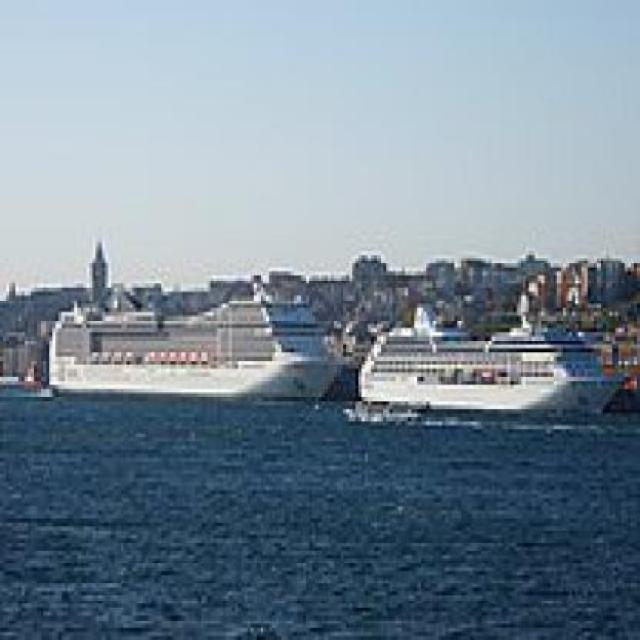cruise: (32, 276, 363, 418), (350, 304, 635, 435)
